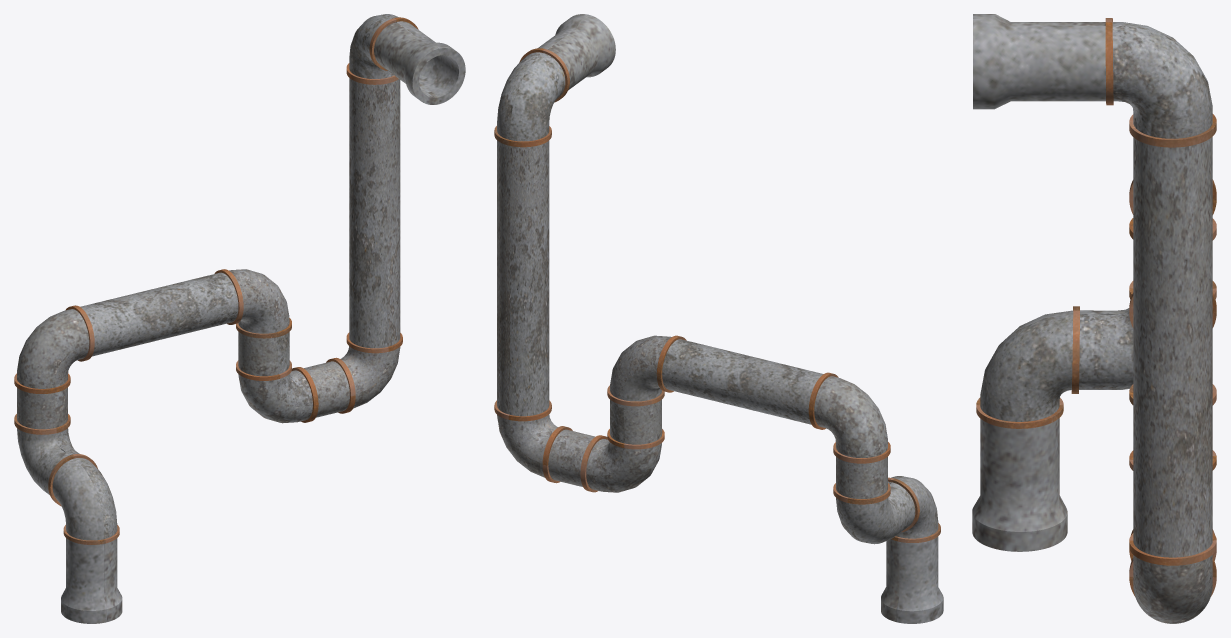
File: pipe.fbx
The picture shows the model from 3 angles, left to right: view 1: azimuth 30°, elevation 25°; view 2: azimuth 150°, elevation 25°; view 3: azimuth 270°, elevation 25°; orthographic projection. The views are drawn at different scales.
Parts seen in each view (by area): view 1: Pipe; view 2: Pipe; view 3: Pipe.
Part boxes in pixels (x1=…): Pipe: x1=14, y1=14, x2=465, y2=623; Pipe: x1=494, y1=14, x2=943, y2=623; Pipe: x1=972, y1=14, x2=1216, y2=623.
Bounding box in the file's own units: 348 × 425 × 123.
